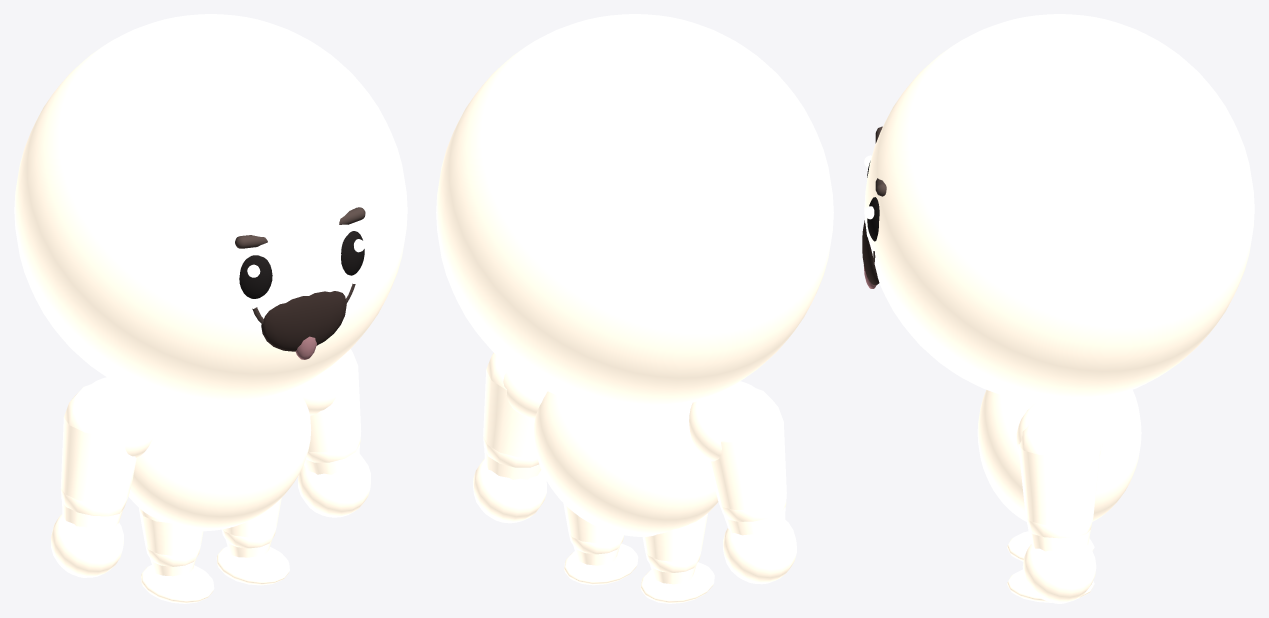
The model's file is bit.glb.
The picture shows the model from 3 angles, left to right: view 1: azimuth 30°, elevation 25°; view 2: azimuth 150°, elevation 25°; view 3: azimuth 270°, elevation 25°; orthographic projection.
Visible parts, largest first — view 1: body, arm_l, forearm_l, arm_r, forearm_r, mouth_open, leg_l, foot_r, foot_l, leg_r, eye_l, eye_r; view 2: body, arm_l, forearm_l, arm_r, forearm_r, leg_l, foot_r, foot_l, leg_r; view 3: body, arm_r, forearm_r, foot_r, mouth_open, foot_l.
Boxes of the visible parts, x1=… form: body: x1=14, y1=14, x2=407, y2=531; arm_l: x1=60, y1=382, x2=136, y2=516; forearm_l: x1=51, y1=501, x2=123, y2=577; arm_r: x1=306, y1=349, x2=361, y2=462; forearm_r: x1=298, y1=444, x2=370, y2=517; mouth_open: x1=261, y1=291, x2=346, y2=351; leg_l: x1=139, y1=508, x2=203, y2=566; foot_r: x1=216, y1=546, x2=289, y2=585; foot_l: x1=141, y1=565, x2=214, y2=603; leg_r: x1=221, y1=498, x2=281, y2=548; eye_l: x1=239, y1=255, x2=272, y2=298; eye_r: x1=341, y1=231, x2=364, y2=275; body: x1=436, y1=14, x2=833, y2=536; arm_l: x1=710, y1=386, x2=786, y2=521; forearm_l: x1=723, y1=507, x2=796, y2=584; arm_r: x1=483, y1=353, x2=538, y2=467; forearm_r: x1=473, y1=449, x2=546, y2=523; leg_l: x1=642, y1=513, x2=707, y2=572; foot_r: x1=564, y1=543, x2=638, y2=585; foot_l: x1=640, y1=562, x2=714, y2=603; leg_r: x1=563, y1=503, x2=623, y2=554; body: x1=864, y1=14, x2=1254, y2=521; arm_r: x1=1018, y1=409, x2=1100, y2=538; forearm_r: x1=1022, y1=530, x2=1096, y2=603; foot_r: x1=1007, y1=569, x2=1094, y2=602; mouth_open: x1=862, y1=220, x2=879, y2=285; foot_l: x1=1007, y1=531, x2=1094, y2=561.
Bounding box in the file's own units: 1.8 × 2.78 × 1.81.
